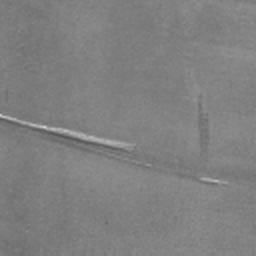Finishing roll printing: (0, 114, 138, 155), (198, 177, 230, 187)
